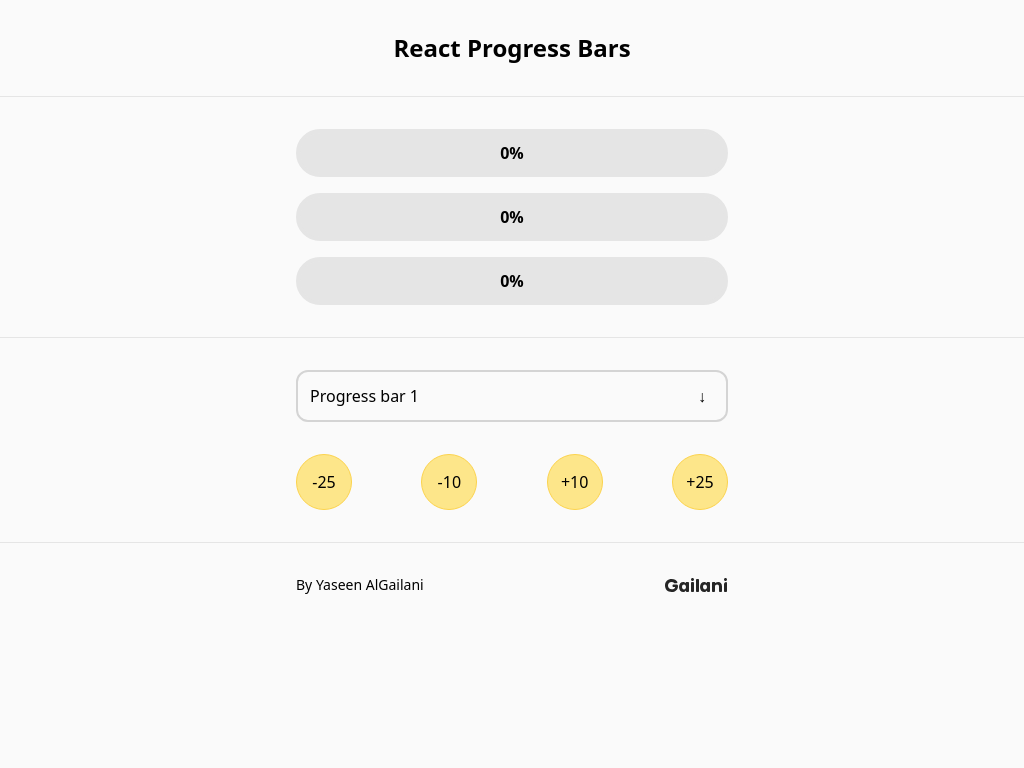
Test: Home › updates only the active bar
The image size is (1024, 768).
Click the button "+10" at (575,482), box 547,454 -> 603,510
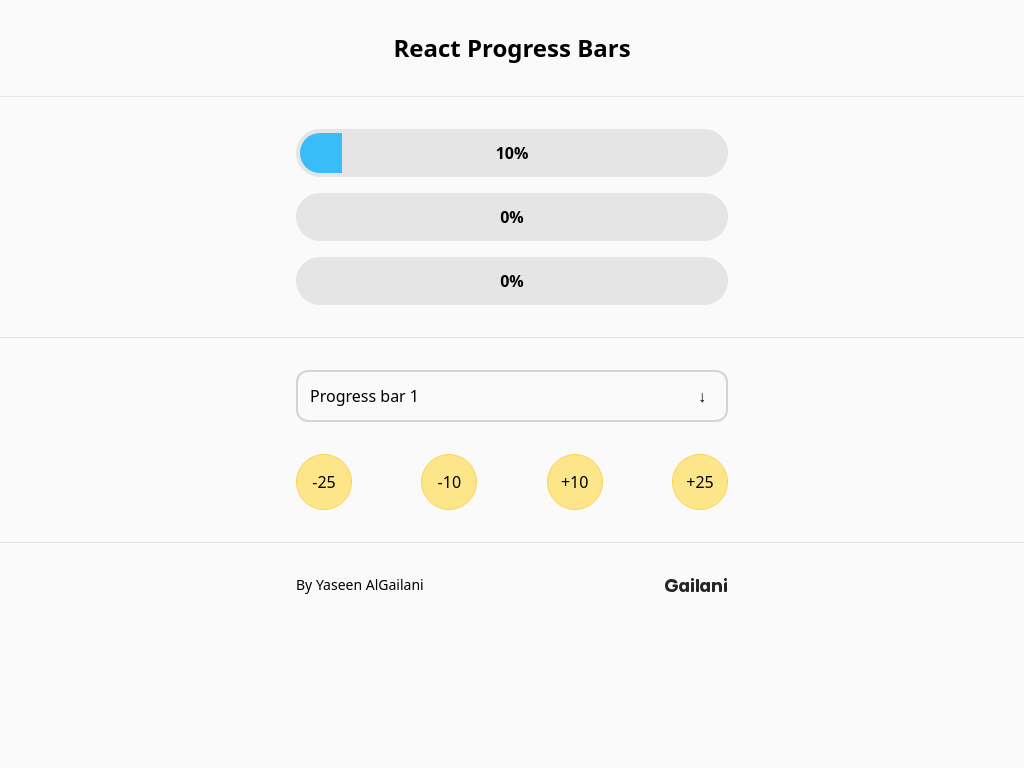
Expected: the 1st text "0%" is shown, 500,205 -> 524,229
Expected: the text "10%" is shown, 496,141 -> 528,165
